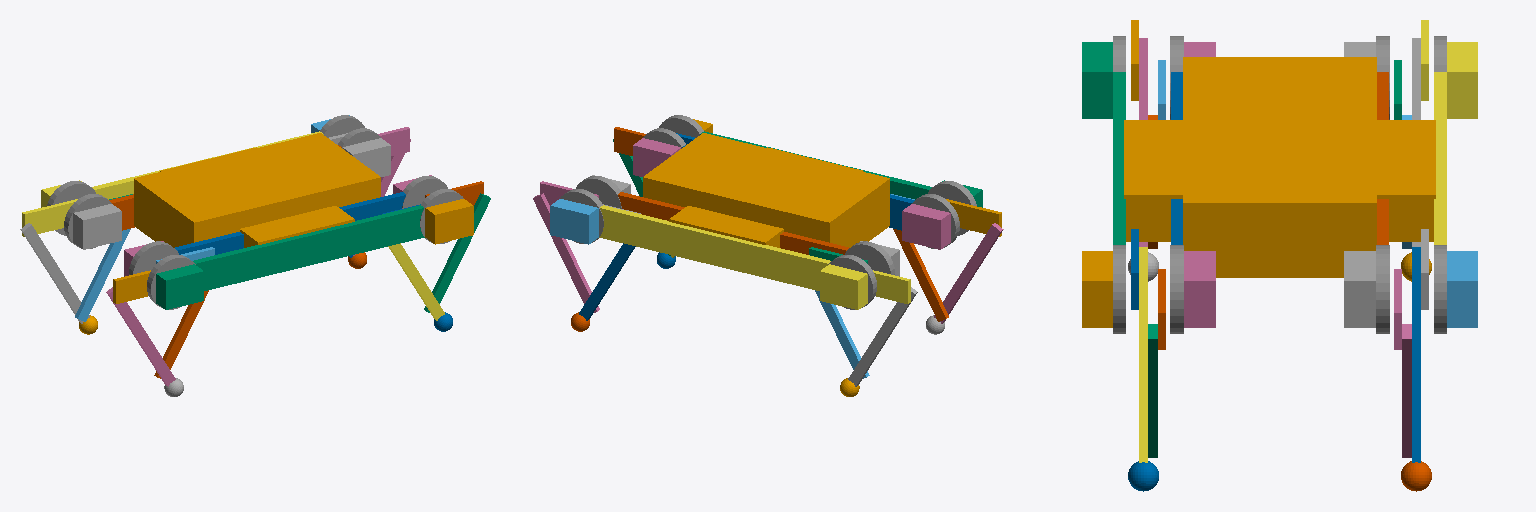
--- What the picture shows (computed from the rendered views, not written in the file) ---
The picture shows the robot from 3 angles, left to right: view 1: azimuth 30°, elevation 25°; view 2: azimuth 150°, elevation 25°; view 3: azimuth 270°, elevation 25°; orthographic projection.
Model minitaur with 40 links and 39 joints (16 continuous, 23 fixed), rooted at base_chassis_link_dummy, posed all joints at 0.
Visible links, largest first — view 1: base_chassis_link_dummy, frame1, chassis_left, motor_front_rightR_bracket_link, frame3, motor_back_rightR_bracket_link, lower_leg_back_leftL_link, lower_leg_back_rightR_link, lower_leg_front_rightL_link, lower_leg_back_leftR_link, lower_leg_front_rightR_link, upper_leg_back_leftL_link (+11 smaller); view 2: base_chassis_link_dummy, frame2, chassis_right, motor_front_leftL_bracket_link, frame4, motor_back_leftL_bracket_link, lower_leg_back_rightR_link, lower_leg_back_leftL_link, lower_leg_front_leftR_link, lower_leg_back_rightL_link, lower_leg_front_leftL_link, upper_leg_back_rightR_link (+11 smaller); view 3: base_chassis_link_dummy, chassis_right, chassis_left, motor_front_rightR_bracket_link, motor_front_leftL_bracket_link, motor_back_rightR_bracket_link, motor_back_leftL_bracket_link, frame1, frame2, lower_leg_front_leftL_link, lower_leg_front_rightR_link, lower_leg_front_leftR_link (+19 smaller).
Link boxes in pixels (x1,y1,x2,y2): base_chassis_link_dummy: [134, 133, 380, 247]; frame1: [193, 205, 424, 290]; chassis_left: [73, 138, 390, 249]; motor_front_rightR_bracket_link: [425, 199, 473, 244]; frame3: [175, 192, 405, 254]; motor_back_rightR_bracket_link: [156, 264, 203, 309]; lower_leg_back_leftL_link: [20, 223, 89, 323]; lower_leg_back_rightR_link: [106, 287, 175, 386]; lower_leg_front_rightL_link: [424, 193, 490, 312]; lower_leg_back_leftR_link: [75, 229, 130, 321]; lower_leg_front_rightR_link: [388, 243, 444, 320]; upper_leg_back_leftL_link: [22, 199, 77, 236]; base_chassis_link_dummy: [643, 133, 889, 247]; frame2: [599, 205, 830, 290]; chassis_right: [633, 138, 950, 249]; motor_front_leftL_bracket_link: [550, 199, 598, 244]; frame4: [618, 192, 848, 254]; motor_back_leftL_bracket_link: [820, 264, 867, 309]; lower_leg_back_rightR_link: [934, 223, 1003, 323]; lower_leg_back_leftL_link: [848, 287, 917, 386]; lower_leg_front_leftR_link: [533, 193, 599, 312]; lower_leg_back_rightL_link: [893, 229, 948, 321]; lower_leg_front_leftL_link: [579, 243, 635, 320]; upper_leg_back_rightR_link: [946, 199, 1001, 236]; base_chassis_link_dummy: [1124, 57, 1435, 277]; chassis_right: [1184, 42, 1215, 327]; chassis_left: [1344, 42, 1375, 327]; motor_front_rightR_bracket_link: [1082, 251, 1112, 327]; motor_front_leftL_bracket_link: [1447, 251, 1477, 327]; motor_back_rightR_bracket_link: [1082, 42, 1112, 118]; motor_back_leftL_bracket_link: [1447, 42, 1477, 118]; frame1: [1113, 72, 1125, 244]; frame2: [1434, 72, 1446, 244]; lower_leg_front_leftL_link: [1412, 247, 1420, 462]; lower_leg_front_rightR_link: [1139, 247, 1147, 462]; lower_leg_front_leftR_link: [1402, 324, 1411, 457].
Size in the robot's own frame: 0.6797 by 0.38 by 0.264 metres.
Meshes: 1 distinct files referenced, 8 mesh visuals loaded (1 Collada DAE).

robot.urdf — minitaur:
<?xml version="1.0" ?>
<!-- =================================================================================== -->
<!-- |    This document was autogenerated by xacro from minitaur_gazebo.urdf.xacro     | -->
<!-- |    EDITING THIS FILE BY HAND IS NOT RECOMMENDED                                 | -->
<!-- =================================================================================== -->
<!-- ======================================================================= -->
<!--LICENSE:                                                                 -->
<!--Copyright (c) 2017, Erwin Coumans                                        -->
<!--Google Inc.                                                              -->
<!--All rights reserved.                                                     -->
<!--                                                                         -->
<!--Redistribution and use in source and binary forms, with or without       -->
<!--modification, are permitted provided that the following conditions are   -->
<!--met:                                                                     -->
<!--                                                                         -->
<!--1. Redistributions or derived work must retain this copyright notice,    -->
<!--   this list of conditions and the following disclaimer.                 -->
<!--                                                                         -->
<!--2. Redistributions in binary form must reproduce the above copyright     -->
<!--   notice, this list of conditions and the following disclaimer in the   -->
<!--   documentation and/or other materials provided with the distribution.  -->
<!--                                                                         -->
<!--THIS SOFTWARE IS PROVIDED BY THE COPYRIGHT HOLDERS AND CONTRIBUTORS "AS  -->
<!--IS" AND ANY EXPRESS OR IMPLIED WARRANTIES, INCLUDING, BUT NOT LIMITED TO,-->
<!--THE IMPLIED WARRANTIES OF MERCHANTABILITY AND FITNESS FOR A PARTICULAR   -->
<!--PURPOSE ARE DISCLAIMED. IN NO EVENT SHALL THE COPYRIGHT HOLDER OR        -->
<!--CONTRIBUTORS BE LIABLE FOR ANY DIRECT, INDIRECT, INCIDENTAL, SPECIAL,    -->
<!--EXEMPLARY, OR CONSEQUENTIAL DAMAGES (INCLUDING, BUT NOT LIMITED TO,      -->
<!--PROCUREMENT OF SUBSTITUTE GOODS OR SERVICES; LOSS OF USE, DATA, OR       -->
<!--PROFITS; OR BUSINESS INTERRUPTION) HOWEVER CAUSED AND ON ANY THEORY OF   -->
<!--LIABILITY, WHETHER IN CONTRACT, STRICT LIABILITY, OR TORT (INCLUDING     -->
<!--NEGLIGENCE OR OTHERWISE) ARISING IN ANY WAY OUT OF THE USE OF THIS       -->
<!--SOFTWARE, EVEN IF ADVISED OF THE POSSIBILITY OF SUCH DAMAGE.             -->
<!--                                                                         -->
<!-- Converted to xacro by Tom Jacobs and Vasileios Vasilopoulos             -->
<!-- <[email redacted]>, <[email redacted]>              -->
<robot name="minitaur" xmlns:xacro="http://www.ros.org/wiki/xacro">
  <!-- Define parameters -->
  <!-- 7.18kg minitaur total weight - 0.016*4 - 0.10*8 - 0.25*8 - 0.05*8 - 0.05*8 = 3.516 -->
  <!-- * 4 frames -->
  <!-- * 8 motor modules -->
  <!-- * 8 motors -->
  <!-- * 8 upper legs -->
  <!-- * 8 lower legs -->
  <!-- LINK: Body dummy -->
  <link name="base_chassis_link_dummy">
    <visual>
      <geometry>
        <box size="0.33 0.1855 0.08"/>
      </geometry>
    </visual>
    <visual>
      <origin rpy="0 0 0" xyz="0 0.10 -0.014"/>
      <geometry>
        <box size="0.17 0.1 0.05"/>
      </geometry>
    </visual>
    <visual>
      <origin rpy="0 0 0" xyz="0 -0.10 -0.014"/>
      <geometry>
        <box size="0.17 0.1 0.05"/>
      </geometry>
    </visual>
    <collision>
      <geometry>
        <box size="0.33 0.1855 0.08"/>
      </geometry>
    </collision>
    <collision>
      <origin rpy="0 0 0" xyz="0 0.10 -0.014"/>
      <geometry>
        <box size="0.17 0.1 0.05"/>
      </geometry>
    </collision>
    <collision>
      <origin rpy="0 0 0" xyz="0 -0.10 -0.014"/>
      <geometry>
        <box size="0.17 0.1 0.05"/>
      </geometry>
    </collision>
  </link>
  <gazebo reference="base_chassis_link_dummy">
    <material>Gazebo/FlatBlack</material>
  </gazebo>
  <!-- LINK: Body -->
  <link name="base_chassis_link">
    <visual>
      <geometry>
        <box size="0.33 0.1855 0.08"/>
      </geometry>
    </visual>
    <visual>
      <origin rpy="0 0 0" xyz="0 0.10 -0.014"/>
      <geometry>
        <box size="0.17 0.1 0.05"/>
      </geometry>
    </visual>
    <visual>
      <origin rpy="0 0 0" xyz="0 -0.10 -0.014"/>
      <geometry>
        <box size="0.17 0.1 0.05"/>
      </geometry>
    </visual>
    <collision>
      <geometry>
        <box size="0.33 0.1855 0.08"/>
      </geometry>
    </collision>
    <collision>
      <origin rpy="0 0 0" xyz="0 0.10 -0.014"/>
      <geometry>
        <box size="0.17 0.1 0.05"/>
      </geometry>
    </collision>
    <collision>
      <origin rpy="0 0 0" xyz="0 -0.10 -0.014"/>
      <geometry>
        <box size="0.17 0.1 0.05"/>
      </geometry>
    </collision>
    <inertial>
      <mass value="3.516"/>
      <origin rpy="0 0 0" xyz="0 0 0"/>
      <!-- https://en.wikipedia.org/wiki/List_of_moments_of_inertia Solid Cuboid -->
      <inertia ixx="0.01195740325" ixy="0.0" ixz="0.0" iyy="0.0337829" iyz="0.0" izz="0.04198990325"/>
    </inertial>
  </link>
  <gazebo reference="base_chassis_link">
    <material>Gazebo/FlatBlack</material>
  </gazebo>
  <!-- JOINT: body to body dummy -->
  <joint name="dummy_joint" type="fixed">
    <axis xyz="0 0 1"/>
    <parent link="base_chassis_link_dummy"/>
    <child link="base_chassis_link"/>
    <origin rpy="0 0 0" xyz="0 0 0"/>
    <limit effort="100" velocity="100"/>
    <joint_properties damping=".0" friction=".0"/>
  </joint>
  <!-- LINK: frame1 -->
  <link name="frame1">
    <visual>
      <origin rpy="0 0 0" xyz="-0.22 0 0"/>
      <geometry>
        <box size="0.468 .012 .050"/>
      </geometry>
    </visual>
    <collision>
      <origin rpy="0 0 0" xyz="-0.22 0 0"/>
      <geometry>
        <box size="0.468 .012 .050"/>
      </geometry>
    </collision>
    <inertial>
      <origin rpy="0 0 0" xyz="0 -0.03 0"/>
      <mass value="0.16"/>
      <inertia ixx=".00011397" ixy=".0" ixz=".0" iyy=".00011397" iyz=".0" izz=".00021765"/>
    </inertial>
  </link>
  <gazebo reference="frame1">
    <material>Gazebo/Grey</material>
  </gazebo>
  <!-- JOINT: frame1 to body -->
  <joint name="frame1_joint" type="fixed">
    <axis xyz="0 0 1"/>
    <parent link="base_chassis_link"/>
    <child link="frame1"/>
    <origin rpy="0 0 0" xyz=".2375 -0.154 -.0185"/>
    <limit effort="100" velocity="100"/>
    <joint_properties damping=".0" friction=".0"/>
  </joint>
  <!-- LINK: frame2 -->
  <link name="frame2">
    <visual>
      <origin rpy="0 0 0" xyz="-0.22 0 0"/>
      <geometry>
        <box size="0.468 .012 .050"/>
      </geometry>
    </visual>
    <collision>
      <origin rpy="0 0 0" xyz="-0.22 0 0"/>
      <geometry>
        <box size="0.468 .012 .050"/>
      </geometry>
    </collision>
    <inertial>
      <origin rpy="0 0 0" xyz="0 0.02 0"/>
      <mass value="0.16"/>
      <inertia ixx=".00011397" ixy=".0" ixz=".0" iyy=".00011397" iyz=".0" izz=".00021765"/>
    </inertial>
  </link>
  <gazebo reference="frame2">
    <material>Gazebo/Grey</material>
  </gazebo>
  <!-- JOINT: frame2 to body -->
  <joint name="frame2_joint" type="fixed">
    <axis xyz="0 0 1"/>
    <parent link="base_chassis_link"/>
    <child link="frame2"/>
    <origin rpy="0 0 0" xyz=".2375 0.154 -.0185"/>
    <limit effort="100" velocity="100"/>
    <joint_properties damping=".0" friction=".0"/>
  </joint>
  <!-- LINK: frame3 -->
  <link name="frame3">
    <visual>
      <origin rpy="0 0 0" xyz="0.22 0.055 0"/>
      <geometry>
        <box size="0.468 .012 .050"/>
      </geometry>
    </visual>
    <collision>
      <origin rpy="0 0 0" xyz="0.22 0.055 0"/>
      <geometry>
        <box size="0.468 .012 .050"/>
      </geometry>
    </collision>
    <inertial>
      <origin rpy="0 0 0" xyz="0 -0.03 0"/>
      <mass value="0.16"/>
      <inertia ixx=".00011397" ixy=".0" ixz=".0" iyy=".00011397" iyz=".0" izz=".00021765"/>
    </inertial>
  </link>
  <gazebo reference="frame3">
    <material>Gazebo/Grey</material>
  </gazebo>
  <!-- JOINT: frame3 to body -->
  <joint name="frame3_joint" type="fixed">
    <axis xyz="0 0 1"/>
    <parent link="base_chassis_link"/>
    <child link="frame3"/>
    <origin rpy="0 0 0" xyz="-.2375 -0.154 -.0185"/>
    <limit effort="100" velocity="100"/>
    <joint_properties damping=".0" friction=".0"/>
  </joint>
  <!-- LINK: frame4 -->
  <link name="frame4">
    <visual>
      <origin rpy="0 0 0" xyz="0.22 -0.055 0"/>
      <geometry>
        <box size="0.468 .012 .050"/>
      </geometry>
    </visual>
    <collision>
      <origin rpy="0 0 0" xyz="0.22 -0.055 0"/>
      <geometry>
        <box size="0.468 .012 .050"/>
      </geometry>
    </collision>
    <inertial>
      <origin rpy="0 0 0" xyz="0 0.02 0"/>
      <mass value="0.16"/>
      <inertia ixx=".00011397" ixy=".0" ixz=".0" iyy=".00011397" iyz=".0" izz=".00021765"/>
    </inertial>
  </link>
  <gazebo reference="frame4">
    <material>Gazebo/Grey</material>
  </gazebo>
  <!-- JOINT: frame4 to body -->
  <joint name="frame4" type="fixed">
    <axis xyz="0 0 1"/>
    <parent link="base_chassis_link"/>
    <child link="frame4"/>
    <origin rpy="0 0 0" xyz="-.2375 0.154 -.0185"/>
    <limit effort="100" velocity="100"/>
    <joint_properties damping=".0" friction=".0"/>
  </joint>
  <!-- Inside motor module boxes -->
  <!-- LINK: chassis_right -->
  <link name="chassis_right">
    <visual>
      <origin rpy="0 0 0" xyz=".2375 .049 0"/>
      <geometry>
        <box size=".068 .032 .050"/>
      </geometry>
    </visual>
    <visual>
      <origin rpy="0 0 0" xyz="-.2375 .049 0"/>
      <geometry>
        <box size=".068 .032 .050"/>
      </geometry>
    </visual>
    <collision>
      <origin rpy="0 0 0" xyz=".2375 .049 0"/>
      <geometry>
        <box size=".068 .032 .050"/>
      </geometry>
    </collision>
    <collision>
      <origin rpy="0 0 0" xyz="-.2375 .049 0"/>
      <geometry>
        <box size=".068 .032 .050"/>
      </geometry>
    </collision>
    <inertial>
      <mass value="0.2"/>
      <inertia ixx=".004147" ixy=".0" ixz=".0" iyy=".040913" iyz=".0" izz=".041840"/>
    </inertial>
  </link>
  <gazebo reference="chassis_right">
    <material>Gazebo/Black</material>
  </gazebo>
  <!-- JOINT: chassis_right_center to body -->
  <joint name="chassis_right_center" type="fixed">
    <axis xyz="0 0 1"/>
    <parent link="base_chassis_link"/>
    <child link="chassis_right"/>
    <origin rpy="0 0 0" xyz="0 -.1265 -.0185"/>
    <limit effort="100" velocity="100"/>
    <joint_properties damping=".0" friction=".0"/>
  </joint>
  <!-- LINK: chassis_left -->
  <link name="chassis_left">
    <visual>
      <origin rpy="0 0 0" xyz=".2375 -.049 0"/>
      <geometry>
        <box size=".068 .032 .050"/>
      </geometry>
    </visual>
    <visual>
      <origin rpy="0 0 0" xyz="-.2375 -.049 0"/>
      <geometry>
        <box size=".068 .032 .050"/>
      </geometry>
    </visual>
    <collision>
      <origin rpy="0 0 0" xyz=".2375 -.049 0"/>
      <geometry>
        <box size=".068 .032 .050"/>
      </geometry>
    </collision>
    <collision>
      <origin rpy="0 0 0" xyz="-.2375 -.049 0"/>
      <geometry>
        <box size=".068 .032 .050"/>
      </geometry>
    </collision>
    <inertial>
      <mass value="0.2"/>
      <inertia ixx=".004147" ixy=".0" ixz=".0" iyy=".040913" iyz=".0" izz=".041840"/>
    </inertial>
  </link>
  <gazebo reference="chassis_left">
    <material>Gazebo/Black</material>
  </gazebo>
  <!-- JOINT: chassis_left_center to body -->
  <joint name="chassis_left_center" type="fixed">
    <axis xyz="0 0 1"/>
    <parent link="base_chassis_link"/>
    <child link="chassis_left"/>
    <origin rpy="0 0 0" xyz="0 .1265 -.0185"/>
    <limit effort="100" velocity="100"/>
    <joint_properties damping=".0" friction=".0"/>
  </joint>
  <!-- Outside motor module boxes -->
  <!-- LINK: motor_front_rightR_bracket_link -->
  <link name="motor_front_rightR_bracket_link">
    <visual>
      <origin rpy="0 0 0" xyz="0 -0.02 0"/>
      <geometry>
        <box size="0.068 .032 .050"/>
      </geometry>
    </visual>
    <collision>
      <origin rpy="0 0 0" xyz="0 -0.02 0"/>
      <geometry>
        <box size=".068 .032 .050"/>
      </geometry>
    </collision>
    <inertial>
      <origin rpy="0 0 0" xyz="0 -0.03 0"/>
      <mass value="0.1"/>
      <inertia ixx=".00011397" ixy=".0" ixz=".0" iyy=".00011397" iyz=".0" izz=".00021765"/>
    </inertial>
  </link>
  <gazebo reference="motor_front_rightR_bracket_link">
    <material>Gazebo/Black</material>
  </gazebo>
  <!-- JOINT: motor_front_rightR_bracket_link to body -->
  <joint name="motor_front_rightR_bracket_joint" type="fixed">
    <axis xyz="0 0 1"/>
    <parent link="base_chassis_link"/>
    <child link="motor_front_rightR_bracket_link"/>
    <origin rpy="0 0 0" xyz=".2375 -0.154 -.0185"/>
    <limit effort="100" velocity="100"/>
    <joint_properties damping=".0" friction=".0"/>
  </joint>
  <!-- LINK: motor_front_leftL_bracket_link -->
  <link name="motor_front_leftL_bracket_link">
    <visual>
      <origin rpy="0 0 0" xyz="0 0.02 0"/>
      <geometry>
        <box size="0.068 .032 .050"/>
      </geometry>
    </visual>
    <collision>
      <origin rpy="0 0 0" xyz="0 0.02 0"/>
      <geometry>
        <box size=".068 .032 .050"/>
      </geometry>
    </collision>
    <inertial>
      <origin rpy="0 0 0" xyz="0 0.02 0"/>
      <mass value="0.1"/>
      <inertia ixx=".00011397" ixy=".0" ixz=".0" iyy=".00011397" iyz=".0" izz=".00021765"/>
    </inertial>
  </link>
  <gazebo reference="motor_front_leftL_bracket_link">
    <material>Gazebo/Black</material>
  </gazebo>
  <!-- JOINT: motor_front_leftL_bracket_joint to body -->
  <joint name="motor_front_leftL_bracket_joint" type="fixed">
    <axis xyz="0 0 1"/>
    <parent link="base_chassis_link"/>
    <child link="motor_front_leftL_bracket_link"/>
    <origin rpy="0 0 0" xyz=".2375 0.154 -.0185"/>
    <limit effort="100" velocity="100"/>
    <joint_properties damping=".0" friction=".0"/>
  </joint>
  <!-- LINK: motor_back_rightR_bracket_link -->
  <link name="motor_back_rightR_bracket_link">
    <visual>
      <origin rpy="0 0 0" xyz="0 -0.02 0"/>
      <geometry>
        <box size="0.068 .032 .050"/>
      </geometry>
    </visual>
    <collision>
      <origin rpy="0 0 0" xyz="0 -0.02 0"/>
      <geometry>
        <box size=".068 .032 .050"/>
      </geometry>
    </collision>
    <inertial>
      <origin rpy="0 0 0" xyz="0 -0.03 0"/>
      <mass value="0.1"/>
      <inertia ixx=".00011397" ixy=".0" ixz=".0" iyy=".00011397" iyz=".0" izz=".00021765"/>
    </inertial>
  </link>
  <gazebo reference="motor_back_rightR_bracket_link">
    <material>Gazebo/Black</material>
  </gazebo>
  <!-- JOINT: motor_back_rightR_bracket_joint to body -->
  <joint name="motor_back_rightR_bracket_joint" type="fixed">
    <axis xyz="0 0 1"/>
    <parent link="base_chassis_link"/>
    <child link="motor_back_rightR_bracket_link"/>
    <origin rpy="0 0 0" xyz="-.2375 -0.154 -.0185"/>
    <limit effort="100" velocity="100"/>
    <joint_properties damping=".0" friction=".0"/>
  </joint>
  <!-- LINK: motor_back_leftL_bracket_link -->
  <link name="motor_back_leftL_bracket_link">
    <visual>
      <origin rpy="0 0 0" xyz="0 0.02 0"/>
      <geometry>
        <box size="0.068 .032 .050"/>
      </geometry>
    </visual>
    <collision>
      <origin rpy="0 0 0" xyz="0 0.02 0"/>
      <geometry>
        <box size=".068 .032 .050"/>
      </geometry>
    </collision>
    <inertial>
      <origin rpy="0 0 0" xyz="0 0.02 0"/>
      <mass value="0.1"/>
      <inertia ixx=".00011397" ixy=".0" ixz=".0" iyy=".00011397" iyz=".0" izz=".00021765"/>
    </inertial>
  </link>
  <gazebo reference="motor_back_leftL_bracket_link">
    <material>Gazebo/Black</material>
  </gazebo>
  <!-- JOINT: motor_back_leftL_bracket_joint to body -->
  <joint name="motor_back_leftL_bracket_joint" type="fixed">
    <axis xyz="0 0 1"/>
    <parent link="base_chassis_link"/>
    <child link="motor_back_leftL_bracket_link"/>
    <origin rpy="0 0 0" xyz="-.2375 0.154 -.0185"/>
    <limit effort="100" velocity="100"/>
    <joint_properties damping=".0" friction=".0"/>
  </joint>
  <!-- Define our motor macro -->
  <!-- Motors -->
  <!-- LINK: motor_${location}_${side}${LR}_link -->
  <link name="motor_front_rightR_link">
    <visual>
      <geometry>
        <mesh filename="package://GymIgnition/models/Minitaur/meshes/tmotor3.dae" scale="100 100 100"/>
      </geometry>
    </visual>
    <collision>
      <geometry>
        <cylinder length="0.021" radius="0.0425"/>
      </geometry>
    </collision>
    <inertial>
      <mass value="0.25"/>
      <inertia ixx=".00011397" ixy=".0" ixz=".0" iyy=".00011397" iyz=".0" izz=".00021765"/>
    </inertial>
  </link>
  <!-- JOINT: motor_${location}_${side}${LR}_link to ${chassis} -->
  <joint name="5" type="continuous">
    <axis xyz="0 0 1"/>
    <parent link="motor_front_rightR_bracket_link"/>
    <child link="motor_front_rightR_link"/>
    <origin rpy="1.57075 -1.57075 0" xyz="0 0 0"/>
    <limit effort="100" velocity="100"/>
    <joint_properties damping="0.0" friction="0.0"/>
  </joint>
  <!-- Transmission elements required for Gazebo -->
  <transmission name="transmission_5">
    <type>transmission_interface/SimpleTransmission</type>
    <joint name="5">
      <hardwareInterface>hardware_interface/EffortJointInterface</hardwareInterface>
    </joint>
    <actuator name="motor_5">
      <hardwareInterface>EffortJointInterface</hardwareInterface>
      <mechanicalReduction>1</mechanicalReduction>
    </actuator>
  </transmission>
  <!-- LINK: motor_${location}_${side}${LR}_link -->
  <link name="motor_front_rightL_link">
    <visual>
      <geometry>
        <mesh filename="package://GymIgnition/models/Minitaur/meshes/tmotor3.dae" scale="100 100 100"/>
      </geometry>
    </visual>
    <collision>
      <geometry>
        <cylinder length="0.021" radius="0.0425"/>
      </geometry>
    </collision>
    <inertial>
      <mass value="0.25"/>
      <inertia ixx=".00011397" ixy=".0" ixz=".0" iyy=".00011397" iyz=".0" izz=".00021765"/>
    </inertial>
  </link>
  <!-- JOINT: motor_${location}_${side}${LR}_link to ${chassis} -->
  <joint name="4" type="continuous">
    <axis xyz="0 0 -1"/>
    <parent link="chassis_right"/>
    <child link="motor_front_rightL_link"/>
    <origin rpy="1.57075 1.57075 0" xyz=".2375 .0275 0"/>
    <limit effort="100" velocity="100"/>
    <joint_properties damping="0.0" friction="0.0"/>
  </joint>
  <!-- Transmission elements required for Gazebo -->
  <transmission name="transmission_4">
    <type>transmission_interface/SimpleTransmission</type>
    <joint name="4">
      <hardwareInterface>hardware_interface/EffortJointInterface</hardwareInterface>
    </joint>
    <actuator name="motor_4">
      <hardwareInterface>EffortJointInterface</hardwareInterface>
      <mechanicalReduction>1</mechanicalReduction>
    </actuator>
  </transmission>
  <!-- LINK: motor_${location}_${side}${LR}_link -->
  <link name="motor_front_leftL_link">
    <visual>
      <geometry>
        <mesh filename="package://GymIgnition/models/Minitaur/meshes/tmotor3.dae" scale="100 100 100"/>
      </geometry>
    </visual>
    <collision>
      <geometry>
        <cylinder length="0.021" radius="0.0425"/>
      </geometry>
    </collision>
    <inertial>
      <mass value="0.25"/>
      <inertia ixx=".00011397" ixy=".0" ixz=".0" iyy=".00011397" iyz=".0" izz=".00021765"/>
    </inertial>
  </link>
  <!-- JOINT: motor_${location}_${side}${LR}_link to ${chassis} -->
  <joint name="0" type="continuous">
    <axis xyz="0 0 -1"/>
    <parent link="motor_front_leftL_bracket_link"/>
    <child link="motor_front_leftL_link"/>
    <origin rpy="1.57075 -1.57075 0" xyz="0 0 0"/>
    <limit effort="100" velocity="100"/>
    <joint_properties damping="0.0" friction="0.0"/>
  </joint>
  <!-- Transmission elements required for Gazebo -->
  <transmission name="transmission_0">
    <type>transmission_interface/SimpleTransmission</type>
    <joint name="0">
      <hardwareInterface>hardware_interface/EffortJointInterface</hardwareInterface>
    </joint>
    <actuator name="motor_0">
      <hardwareInterface>EffortJointInterface</hardwareInterface>
      <mechanicalReduction>1</mechanicalReduction>
    </actuator>
  </transmission>
  <!-- LINK: motor_${location}_${side}${LR}_link -->
  <link name="motor_front_leftR_link">
    <visual>
      <geometry>
        <mesh filename="package://GymIgnition/models/Minitaur/meshes/tmotor3.dae" scale="100 100 100"/>
      </geometry>
    </visual>
    <collision>
      <geometry>
        <cylinder length="0.021" radius="0.0425"/>
      </geometry>
    </collision>
    <inertial>
      <mass value="0.25"/>
      <inertia ixx=".00011397" ixy=".0" ixz=".0" iyy=".00011397" iyz=".0" izz=".00021765"/>
    </inertial>
  </link>
  <!-- JOINT: motor_${location}_${side}${LR}_link to ${chassis} -->
  <joint name="1" type="continuous">
    <axis xyz="0 0 1"/>
    <parent link="chassis_left"/>
    <child link="motor_front_leftR_link"/>
    <origin rpy="1.57075 1.57075 0" xyz=".2375 -.0275 0"/>
    <limit effort="100" velocity="100"/>
    <joint_properties damping="0.0" friction="0.0"/>
  </joint>
  <!-- Transmission elements required for Gazebo -->
  <transmission name="transmission_1">
    <type>transmission_interface/SimpleTransmission</type>
    <joint name="1">
      <hardwareInterface>hardware_interface/EffortJointInterface</hardwareInterface>
    </joint>
    <actuator name="motor_1">
      <hardwareInterface>EffortJointInterface</hardwareInterface>
      <mechanicalReduction>1</mechanicalReduction>
    </actuator>
  </transmission>
  <!-- LINK: motor_${location}_${side}${LR}_link -->
  <link name="motor_back_rightR_link">
    <visual>
      <geometry>
        <mesh filename="package://GymIgnition/models/Minitaur/meshes/tmotor3.dae" scale="100 100 100"/>
      </geometry>
    </visual>
    <collision>
      <geometry>
        <cylinder length="0.021" radius="0.0425"/>
      </geometry>
    </collision>
    <inertial>
      <mass value="0.25"/>
      <inertia ixx=".00011397" ixy=".0" ixz=".0" iyy=".00011397" iyz=".0" izz=".00021765"/>
    </inertial>
  </link>
  <!-- JOINT: motor_${location}_${side}${LR}_link to ${chassis} -->
  <joint name="7" type="continuous">
    <axis xyz="0 0 1"/>
    <parent link="motor_back_rightR_bracket_link"/>
    <child link="motor_back_rightR_link"/>
    <origin rpy="1.57075 -1.57075 0" xyz="0 0 0"/>
    <limit effort="100" velocity="100"/>
    <joint_properties damping="0.0" friction="0.0"/>
  </joint>
  <!-- Transmission elements required for Gazebo -->
  <transmission name="transmission_7">
    <type>transmission_interface/SimpleTransmission</type>
    <joint name="7">
      <hardwareInterface>hardware_interface/EffortJointInterface</hardwareInterface>
    </joint>
    <actuator name="motor_7">
      <hardwareInterface>EffortJointInterface</hardwareInterface>
      <mechanicalReduction>1</mechanicalReduction>
    </actuator>
  </transmission>
  <!-- LINK: motor_${location}_${side}${LR}_link -->
  <link name="motor_back_rightL_link">
    <visual>
      <geometry>
        <mesh filename="package://GymIgnition/models/Minitaur/meshes/tmotor3.dae" scale="100 100 100"/>
      </geometry>
    </visual>
    <collision>
      <geometry>
        <cylinder length="0.021" radius="0.0425"/>
      </geometry>
    </collision>
    <inertial>
      <mass value="0.25"/>
      <inertia ixx=".00011397" ixy=".0" ixz=".0" iyy=".00011397" iyz=".0" izz=".00021765"/>
    </inertial>
  </link>
  <!-- JOINT: motor_${location}_${side}${LR}_link to ${chassis} -->
  <joint name="6" type="continuous">
    <axis xyz="0 0 -1"/>
    <parent link="chassis_right"/>
    <child link="motor_back_rightL_link"/>
    <origin rpy="1.57075 1.57075 0" xyz="-.2375 .0275 0"/>
    <limit effort="100" velocity="100"/>
    <joint_properties damping="0.0" friction="0.0"/>
  </joint>
  <!-- Transmission elements required for Gazebo -->
  <transmission name="transmission_6">
    <type>transmission_interface/SimpleTransmission</type>
    <joint name="6">
      <hardwareInterface>hardware_interface/EffortJointInterface</hardwareInterface>
    </joint>
    <actuator name="motor_6">
      <hardwareInterface>EffortJointInterface</hardwareInterface>
      <mechanicalReduction>1</mechanicalReduction>
    </actuator>
  </transmission>
  <!-- LINK: motor_${location}_${side}${LR}_link -->
  <link name="motor_back_leftL_link">
    <visual>
      <geometry>
        <mesh filename="package://GymIgnition/models/Minitaur/meshes/tmotor3.dae" scale="100 100 100"/>
      </geometry>
    </visual>
    <collision>
      <geometry>
        <cylinder length="0.021" radius="0.0425"/>
      </geometry>
    </collision>
    <inertial>
      <mass value="0.25"/>
      <inertia ixx=".00011397" ixy=".0" ixz=".0" iyy=".00011397" iyz=".0" izz=".00021765"/>
    </inertial>
  </link>
  <!-- JOINT: motor_${location}_${side}${LR}_link to ${chassis} -->
  <joint name="2" type="continuous">
    <axis xyz="0 0 -1"/>
    <parent link="motor_back_leftL_bracket_link"/>
    <child link="motor_back_leftL_link"/>
    <origin rpy="1.57075 -1.57075 0" xyz="0 0 0"/>
    <limit effort="100" velocity="100"/>
    <joint_properties damping="0.0" friction="0.0"/>
  </joint>
  <!-- Transmission elements required for Gazebo -->
  <transmission name="transmission_2">
    <type>transmission_interface/SimpleTransmission</type>
    <joint name="2">
      <hardwareInterface>hardware_interface/EffortJointInterface</hardwareInterface>
    </joint>
    <actuator name="motor_2">
      <hardwareInterface>EffortJointInterface</hardwareInterface>
      <mechanicalReduction>1</mechanicalReduction>
    </actuator>
  </transmission>
  <!-- LINK: motor_${location}_${side}${LR}_link -->
  <link name="motor_back_leftR_link">
    <visual>
      <geometry>
        <mesh filename="package://GymIgnition/models/Minitaur/meshes/tmotor3.dae" scale="100 100 100"/>
      </geometry>
    </visual>
    <collision>
      <geometry>
        <cylinder length="0.021" radius="0.0425"/>
      </geometry>
    </collision>
    <inertial>
      <mass value="0.25"/>
      <inertia ixx=".00011397" ixy=".0" ixz=".0" iyy=".00011397" iyz=".0" izz=".00021765"/>
    </inertial>
  </link>
  <!-- JOINT: motor_${location}_${side}${LR}_link to ${chassis} -->
  <joint name="3" type="continuous">
    <axis xyz="0 0 1"/>
    <parent link="chassis_left"/>
    <child link="motor_back_leftR_link"/>
    <origin rpy="1.57075 1.57075 0" xyz="-.2375 -.0275 0"/>
    <limit effort="100" velocity="100"/>
    <joint_properties damping="0.0" friction="0.0"/>
  </joint>
  <!-- Transmission elements required for Gazebo -->
  <transmission name="transmission_3">
    <type>transmission_interface/SimpleTransmission</type>
    <joint name="3">
      <hardwareInterface>hardware_interface/EffortJointInterface</hardwareInterface>
    </joint>
    <actuator name="motor_3">
      <hardwareInterface>EffortJointInterface</hardwareInterface>
      <mechanicalReduction>1</mechanicalReduction>
    </actuator>
  </transmission>
  <!-- Define our upper leg macro -->
  <!-- Define our lower leg macro -->
  <!-- Legs -->
  <!-- LINK: upper_leg_${location}_link -->
  <link name="upper_leg_front_rightR_link">
    <visual>
      <geometry>
        <box size="0.039 0.008 0.1"/>
      </geometry>
    </visual>
    <collision>
      <geometry>
        <box size="0.039 0.008 0.1"/>
      </geometry>
    </collision>
    <inertial>
      <mass value="0.05"/>
      <inertia ixx=".000038770" ixy=".0" ixz=".0" iyy=".000042198" iyz=".0" izz=".0000036030"/>
    </inertial>
  </link>
  <gazebo reference="upper_leg_front_rightR_link">
    <material>Gazebo/Grey</material>
  </gazebo>
  <!-- JOINT: ${hip}_${location}_link to motor_${location}_link -->
  <joint name="hip_front_rightR_link" type="fixed">
    <axis xyz="0 0 1"/>
    <parent link="motor_front_rightR_link"/>
    <child link="upper_leg_front_rightR_link"/>
    <origin rpy="-1.57075 0 0" xyz="0 .045 -.0145"/>
    <limit effort="100" velocity="100"/>
    <joint_properties damping="0.0" friction="0.0"/>
  </joint>
  <!-- LINK: upper_leg_${location}_link -->
  <link name="upper_leg_front_rightL_link">
    <visual>
      <geometry>
        <box size="0.039 0.008 0.1"/>
      </geometry>
    </visual>
    <collision>
      <geometry>
        <box size="0.039 0.008 0.1"/>
      </geometry>
    </collision>
    <inertial>
      <mass value="0.05"/>
      <inertia ixx=".000038770" ixy=".0" ixz=".0" iyy=".000042198" iyz=".0" izz=".0000036030"/>
    </inertial>
  </link>
  <gazebo reference="upper_leg_front_rightL_link">
    <material>Gazebo/Grey</material>
  </gazebo>
  <!-- JOINT: ${hip}_${location}_link to motor_${location}_link -->
  <joint name="motor_front_rightL_link" type="fixed">
    <axis xyz="0 0 1"/>
    <parent link="motor_front_rightL_link"/>
    <child link="upper_leg_front_rightL_link"/>
    <origin rpy="-1.57075 0 0" xyz="0 .045 .0145"/>
    <limit effort="100" velocity="100"/>
    <joint_properties damping="0.0" friction="0.0"/>
  </joint>
  <!-- LINK: upper_leg_${location}_link -->
  <link name="upper_leg_front_leftR_link">
    <visual>
      <geometry>
        <box size="0.039 0.008 0.1"/>
      </geometry>
    </visual>
    <collision>
      <geometry>
        <box size="0.039 0.008 0.1"/>
      </geometry>
    </collision>
    <inertial>
      <mass value="0.05"/>
      <inertia ixx=".000038770" ixy=".0" ixz=".0" iyy=".000042198" iyz=".0" izz=".0000036030"/>
    </inertial>
  </link>
  <gazebo reference="upper_leg_front_leftR_link">
    <material>Gazebo/Grey</material>
  </gazebo>
  <!-- JOINT: ${hip}_${location}_link to motor_${location}_link -->
  <joint name="hip_front_leftR_link" type="fixed">
    <axis xyz="0 0 1"/>
    <parent link="motor_front_leftR_link"/>
    <child link="upper_leg_front_leftR_link"/>
    <origin rpy="-1.57075 0 0" xyz="0 .045 -.0145"/>
    <limit effort="100" velocity="100"/>
    <joint_properties damping="0.0" friction="0.0"/>
  </joint>
  <!-- LINK: upper_leg_${location}_link -->
  <link name="upper_leg_front_leftL_link">
    <visual>
      <geometry>
        <box size="0.039 0.008 0.1"/>
      </geometry>
    </visual>
    <collision>
      <geometry>
        <box size="0.039 0.008 0.1"/>
      </geometry>
    </collision>
    <inertial>
      <mass value="0.05"/>
      <inertia ixx=".000038770" ixy=".0" ixz=".0" iyy=".000042198" iyz=".0" izz=".0000036030"/>
    </inertial>
  </link>
  <gazebo reference="upper_leg_front_leftL_link">
    <material>Gazebo/Grey</material>
  </gazebo>
  <!-- JOINT: ${hip}_${location}_link to motor_${location}_link -->
  <joint name="motor_front_leftL_link" type="fixed">
    <axis xyz="0 0 1"/>
    <parent link="motor_front_leftL_link"/>
    <child link="upper_leg_front_leftL_link"/>
    <origin rpy="-1.57075 0 0" xyz="0 .045 .0145"/>
    <limit effort="100" velocity="100"/>
    <joint_properties damping="0.0" friction="0.0"/>
  </joint>
  <!-- LINK: upper_leg_${location}_link -->
  <link name="upper_leg_back_rightR_link">
    <visual>
      <geometry>
        <box size="0.039 0.008 0.1"/>
      </geometry>
    </visual>
    <collision>
      <geometry>
        <box size="0.039 0.008 0.1"/>
      </geometry>
    </collision>
    <inertial>
      <mass value="0.05"/>
      <inertia ixx=".000038770" ixy=".0" ixz=".0" iyy=".000042198" iyz=".0" izz=".0000036030"/>
    </inertial>
  </link>
  <gazebo reference="upper_leg_back_rightR_link">
    <material>Gazebo/Grey</material>
  </gazebo>
  <!-- JOINT: ${hip}_${location}_link to motor_${location}_link -->
  <joint name="hip_back_rightR_link" type="fixed">
    <axis xyz="0 0 1"/>
    <parent link="motor_back_rightR_link"/>
    <child link="upper_leg_back_rightR_link"/>
    <origin rpy="-1.57075 0 0" xyz="0 .045 -.0145"/>
    <limit effort="100" velocity="100"/>
    <joint_properties damping="0.0" friction="0.0"/>
  </joint>
  <!-- LINK: upper_leg_${location}_link -->
  <link name="upper_leg_back_rightL_link">
    <visual>
      <geometry>
        <box size="0.039 0.008 0.1"/>
      </geometry>
    </visual>
    <collision>
      <geometry>
        <box size="0.039 0.008 0.1"/>
      </geometry>
    </collision>
    <inertial>
      <mass value="0.05"/>
      <inertia ixx=".000038770" ixy=".0" ixz=".0" iyy=".000042198" iyz=".0" izz=".0000036030"/>
    </inertial>
  </link>
  <gazebo reference="upper_leg_back_rightL_link">
    <material>Gazebo/Grey</material>
  </gazebo>
  <!-- JOINT: ${hip}_${location}_link to motor_${location}_link -->
  <joint name="motor_back_rightL_link" type="fixed">
    <axis xyz="0 0 1"/>
    <parent link="motor_back_rightL_link"/>
    <child link="upper_leg_back_rightL_link"/>
    <origin rpy="-1.57075 0 0" xyz="0 .045 .0145"/>
    <limit effort="100" velocity="100"/>
    <joint_properties damping="0.0" friction="0.0"/>
  </joint>
  <!-- LINK: upper_leg_${location}_link -->
  <link name="upper_leg_back_leftR_link">
    <visual>
      <geometry>
        <box size="0.039 0.008 0.1"/>
      </geometry>
    </visual>
    <collision>
      <geometry>
        <box size="0.039 0.008 0.1"/>
      </geometry>
    </collision>
    <inertial>
      <mass value="0.05"/>
      <inertia ixx=".000038770" ixy=".0" ixz=".0" iyy=".000042198" iyz=".0" izz=".0000036030"/>
    </inertial>
  </link>
  <gazebo reference="upper_leg_back_leftR_link">
    <material>Gazebo/Grey</material>
  </gazebo>
  <!-- JOINT: ${hip}_${location}_link to motor_${location}_link -->
  <joint name="hip_back_leftR_link" type="fixed">
    <axis xyz="0 0 1"/>
    <parent link="motor_back_leftR_link"/>
    <child link="upper_leg_back_leftR_link"/>
    <origin rpy="-1.57075 0 0" xyz="0 .045 -.0145"/>
    <limit effort="100" velocity="100"/>
    <joint_properties damping="0.0" friction="0.0"/>
  </joint>
  <!-- LINK: upper_leg_${location}_link -->
  <link name="upper_leg_back_leftL_link">
    <visual>
      <geometry>
        <box size="0.039 0.008 0.1"/>
      </geometry>
    </visual>
    <collision>
      <geometry>
        <box size="0.039 0.008 0.1"/>
      </geometry>
    </collision>
    <inertial>
      <mass value="0.05"/>
      <inertia ixx=".000038770" ixy=".0" ixz=".0" iyy=".000042198" iyz=".0" izz=".0000036030"/>
    </inertial>
  </link>
  <gazebo reference="upper_leg_back_leftL_link">
    <material>Gazebo/Grey</material>
  </gazebo>
  <!-- JOINT: ${hip}_${location}_link to motor_${location}_link -->
  <joint name="motor_back_leftL_link" type="fixed">
    <axis xyz="0 0 1"/>
    <parent link="motor_back_leftL_link"/>
    <child link="upper_leg_back_leftL_link"/>
    <origin rpy="-1.57075 0 0" xyz="0 .045 .0145"/>
    <limit effort="100" velocity="100"/>
    <joint_properties damping="0.0" friction="0.0"/>
  </joint>
  <!-- Lower legs and flexy knee joints -->
  <!-- LINK: lower_leg_${location}_link -->
  <link name="lower_leg_front_leftL_link">
    <visual>
      <origin rpy="0 0 0" xyz="0 0 0.11"/>
      <geometry>
        <box size="0.017 0.009 0.22"/>
      </geometry>
    </visual>
    <collision>
      <origin rpy="0 0 0" xyz="0 0 0.11"/>
      <geometry>
        <box size="0.017 0.009 0.22"/>
      </geometry>
    </collision>
    <inertial>
      <origin rpy="0 0 0" xyz="0 0 0.11"/>
      <mass value="0.05"/>
      <inertia ixx=".00032459" ixy=".0" ixz=".0" iyy=".00032637" iyz=".0" izz=".000002178"/>
    </inertial>
  </link>
  <gazebo reference="lower_leg_front_leftL_link">
    <material>Gazebo/Grey</material>
    <collision>
      <surface>
        <bounce>
          <restitution_coefficient>0</restitution_coefficient>
          <threshold>1e+06</threshold>
        </bounce>
        <friction>
          <torsional>
            <coefficient>0.05</coefficient>
          </torsional>
          <bullet>
            <rolling_friction>0.05</rolling_friction>
          </bullet>
        </friction>
        <contact>
          <ode>
            <kp>3000.0</kp>
            <kd>100.0</kd>
          </ode>
          <bullet>
            <kp>3000.0</kp>
            <kd>100.0</kd>
          </bullet>
        </contact>
      </surface>
    </collision>
  </gazebo>
  <!-- JOINT: lower_leg_${location}_link to upper_leg_${location}_link -->
  <joint name="8" type="continuous">
    <axis xyz="0 -1 0"/>
    <parent link="upper_leg_front_leftL_link"/>
    <child link="lower_leg_front_leftL_link"/>
    <origin rpy="0 4.189 0" xyz="0 -0.0085 0.05"/>
    <limit effort="100" velocity="100"/>
    <joint_properties damping="0.0" friction="0.0"/>
  </joint>
  <!-- Toe -->
  <!-- LINK: toe${toeSuffix} -->
  <link name="toe0">
    <visual>
      <origin rpy="0 0 0" xyz="0 0 0"/>
      <geometry>
        <sphere radius="0.015"/>
      </geometry>
    </visual>
    <collision>
      <origin rpy="0 0 0" xyz="0 0 0"/>
      <geometry>
        <sphere radius="0.015"/>
      </geometry>
    </collision>
    <inertial>
      <mass value="0.01"/>
      <inertia ixx="0.000025" ixy="0" ixz="0" iyy="0.000025" iyz="0" izz="0.000025"/>
    </inertial>
  </link>
  <gazebo reference="toe0">
    <material>Gazebo/Black</material>
    <collision>
      <surface>
        <bounce>
          <restitution_coefficient>0</restitution_coefficient>
          <threshold>1e+06</threshold>
        </bounce>
        <friction>
          <torsional>
            <coefficient>1.0</coefficient>
          </torsional>
          <ode>
            <mu>1.0</mu>
            <mu2>1.0</mu2>
          </ode>
          <bullet>
            <rolling_friction>1.0</rolling_friction>
            <friction2>1.0</friction2>
          </bullet>
        </friction>
        <contact>
          <ode>
            <kp>300000.0</kp>
            <kd>1000.0</kd>
          </ode>
          <bullet>
            <kp>300000.0</kp>
            <kd>1000.0</kd>
          </bullet>
        </contact>
      </surface>
    </collision>
  </gazebo>
  <!-- JOINT: toe${toeSuffix} to lower_leg_${location}_link -->
  <joint name="toe0" type="fixed">
    <parent link="lower_leg_front_leftL_link"/>
    <child link="toe0"/>
    <origin xyz="0 0 0.22"/>
    <dynamics damping="0.0" friction="0.0"/>
  </joint>
  <!-- LINK: lower_leg_${location}_link -->
  <link name="lower_leg_front_leftR_link">
    <visual>
      <origin rpy="0 0 0" xyz="0 0 0.1"/>
      <geometry>
        <box size="0.017 0.009 0.2"/>
      </geometry>
    </visual>
    <collision>
      <origin rpy="0 0 0" xyz="0 0 0.1"/>
      <geometry>
        <box size="0.017 0.009 0.2"/>
      </geometry>
    </collision>
    <inertial>
      <origin rpy="0 0 0" xyz="0 0 0.1"/>
      <mass value="0.05"/>
      <inertia ixx=".00032459" ixy=".0" ixz=".0" iyy=".00032637" iyz=".0" izz=".000002178"/>
    </inertial>
  </link>
  <gazebo reference="lower_leg_front_leftR_link">
    <material>Gazebo/Grey</material>
    <collision>
      <surface>
        <bounce>
          <restitution_coefficient>0</restitution_coefficient>
          <threshold>1e+06</threshold>
        </bounce>
        <friction>
          <torsional>
            <coefficient>0.05</coefficient>
          </torsional>
          <bullet>
            <rolling_friction>0.05</rolling_friction>
          </bullet>
        </friction>
        <contact>
          <ode>
            <kp>3000.0</kp>
            <kd>100.0</kd>
          </ode>
          <bullet>
            <kp>3000.0</kp>
            <kd>100.0</kd>
          </bullet>
        </contact>
      </surface>
    </collision>
  </gazebo>
  <!-- JOINT: lower_leg_${location}_link to upper_leg_${location}_link -->
  <joint name="9" type="continuous">
    <axis xyz="0 1 0"/>
    <parent link="upper_leg_front_leftR_link"/>
    <child link="lower_leg_front_leftR_link"/>
    <origin rpy="0 -4.189 0" xyz="0 0.0085 0.05"/>
    <limit effort="100" velocity="100"/>
    <joint_properties damping="0.0" friction="0.0"/>
  </joint>
  <!-- LINK: lower_leg_${location}_link -->
  <link name="lower_leg_back_leftL_link">
    <visual>
      <origin rpy="0 0 0" xyz="0 0 0.11"/>
      <geometry>
        <box size="0.017 0.009 0.22"/>
      </geometry>
    </visual>
    <collision>
      <origin rpy="0 0 0" xyz="0 0 0.11"/>
      <geometry>
        <box size="0.017 0.009 0.22"/>
      </geometry>
    </collision>
    <inertial>
      <origin rpy="0 0 0" xyz="0 0 0.11"/>
      <mass value="0.05"/>
      <inertia ixx=".00032459" ixy=".0" ixz=".0" iyy=".00032637" iyz=".0" izz=".000002178"/>
    </inertial>
  </link>
  <gazebo reference="lower_leg_back_leftL_link">
    <material>Gazebo/Grey</material>
    <collision>
      <surface>
        <bounce>
          <restitution_coefficient>0</restitution_coefficient>
          <threshold>1e+06</threshold>
        </bounce>
        <friction>
          <torsional>
            <coefficient>0.05</coefficient>
          </torsional>
          <bullet>
            <rolling_friction>0.05</rolling_friction>
          </bullet>
        </friction>
        <contact>
          <ode>
            <kp>3000.0</kp>
            <kd>100.0</kd>
          </ode>
          <bullet>
            <kp>3000.0</kp>
            <kd>100.0</kd>
          </bullet>
        </contact>
      </surface>
    </collision>
  </gazebo>
  <!-- JOINT: lower_leg_${location}_link to upper_leg_${location}_link -->
  <joint name="10" type="continuous">
    <axis xyz="0 -1 0"/>
    <parent link="upper_leg_back_leftL_link"/>
    <child link="lower_leg_back_leftL_link"/>
    <origin rpy="0 4.189 0" xyz="0 -0.0085 0.05"/>
    <limit effort="100" velocity="100"/>
    <joint_properties damping="0.0" friction="0.0"/>
  </joint>
  <!-- Toe -->
  <!-- LINK: toe${toeSuffix} -->
  <link name="toe2">
    <visual>
      <origin rpy="0 0 0" xyz="0 0 0"/>
      <geometry>
        <sphere radius="0.015"/>
      </geometry>
    </visual>
    <collision>
      <origin rpy="0 0 0" xyz="0 0 0"/>
      <geometry>
        <sphere radius="0.015"/>
      </geometry>
    </collision>
    <inertial>
      <mass value="0.01"/>
      <inertia ixx="0.000025" ixy="0" ixz="0" iyy="0.000025" iyz="0" izz="0.000025"/>
    </inertial>
  </link>
  <gazebo reference="toe2">
    <material>Gazebo/Black</material>
    <collision>
      <surface>
        <bounce>
          <restitution_coefficient>0</restitution_coefficient>
          <threshold>1e+06</threshold>
        </bounce>
        <friction>
          <torsional>
            <coefficient>1.0</coefficient>
          </torsional>
          <ode>
            <mu>1.0</mu>
            <mu2>1.0</mu2>
          </ode>
          <bullet>
            <rolling_friction>1.0</rolling_friction>
            <friction2>1.0</friction2>
          </bullet>
        </friction>
        <contact>
          <ode>
            <kp>300000.0</kp>
            <kd>1000.0</kd>
          </ode>
          <bullet>
            <kp>300000.0</kp>
            <kd>1000.0</kd>
          </bullet>
        </contact>
      </surface>
    </collision>
  </gazebo>
  <!-- JOINT: toe${toeSuffix} to lower_leg_${location}_link -->
  <joint name="toe2" type="fixed">
    <parent link="lower_leg_back_leftL_link"/>
    <child link="toe2"/>
    <origin xyz="0 0 0.22"/>
    <dynamics damping="0.0" friction="0.0"/>
  </joint>
  <!-- LINK: lower_leg_${location}_link -->
  <link name="lower_leg_back_leftR_link">
    <visual>
      <origin rpy="0 0 0" xyz="0 0 0.1"/>
      <geometry>
        <box size="0.017 0.009 0.2"/>
      </geometry>
    </visual>
    <collision>
      <origin rpy="0 0 0" xyz="0 0 0.1"/>
      <geometry>
        <box size="0.017 0.009 0.2"/>
      </geometry>
    </collision>
    <inertial>
      <origin rpy="0 0 0" xyz="0 0 0.1"/>
      <mass value="0.05"/>
      <inertia ixx=".00032459" ixy=".0" ixz=".0" iyy=".00032637" iyz=".0" izz=".000002178"/>
    </inertial>
  </link>
  <gazebo reference="lower_leg_back_leftR_link">
    <material>Gazebo/Grey</material>
    <collision>
      <surface>
        <bounce>
          <restitution_coefficient>0</restitution_coefficient>
          <threshold>1e+06</threshold>
        </bounce>
        <friction>
          <torsional>
            <coefficient>0.05</coefficient>
          </torsional>
          <bullet>
            <rolling_friction>0.05</rolling_friction>
          </bullet>
        </friction>
        <contact>
          <ode>
            <kp>3000.0</kp>
            <kd>100.0</kd>
          </ode>
          <bullet>
            <kp>3000.0</kp>
            <kd>100.0</kd>
          </bullet>
        </contact>
      </surface>
    </collision>
  </gazebo>
  <!-- JOINT: lower_leg_${location}_link to upper_leg_${location}_link -->
  <joint name="11" type="continuous">
    <axis xyz="0 1 0"/>
    <parent link="upper_leg_back_leftR_link"/>
    <child link="lower_leg_back_leftR_link"/>
    <origin rpy="0 -4.189 0" xyz="0 0.0085 0.05"/>
    <limit effort="100" velocity="100"/>
    <joint_properties damping="0.0" friction="0.0"/>
  </joint>
  <!-- LINK: lower_leg_${location}_link -->
  <link name="lower_leg_front_rightL_link">
    <visual>
      <origin rpy="0 0 0" xyz="0 0 0.1"/>
      <geometry>
        <box size="0.017 0.009 0.2"/>
      </geometry>
    </visual>
    <collision>
      <origin rpy="0 0 0" xyz="0 0 0.1"/>
      <geometry>
        <box size="0.017 0.009 0.2"/>
      </geometry>
    </collision>
    <inertial>
      <origin rpy="0 0 0" xyz="0 0 0.1"/>
      <mass value="0.05"/>
      <inertia ixx=".00032459" ixy=".0" ixz=".0" iyy=".00032637" iyz=".0" izz=".000002178"/>
    </inertial>
  </link>
  <gazebo reference="lower_leg_front_rightL_link">
    <material>Gazebo/Grey</material>
    <collision>
      <surface>
        <bounce>
          <restitution_coefficient>0</restitution_coefficient>
          <threshold>1e+06</threshold>
        </bounce>
        <friction>
          <torsional>
            <coefficient>0.05</coefficient>
          </torsional>
          <bullet>
            <rolling_friction>0.05</rolling_friction>
          </bullet>
        </friction>
        <contact>
          <ode>
            <kp>3000.0</kp>
            <kd>100.0</kd>
          </ode>
          <bullet>
            <kp>3000.0</kp>
            <kd>100.0</kd>
          </bullet>
        </contact>
      </surface>
    </collision>
  </gazebo>
  <!-- JOINT: lower_leg_${location}_link to upper_leg_${location}_link -->
  <joint name="12" type="continuous">
    <axis xyz="0 -1 0"/>
    <parent link="upper_leg_front_rightL_link"/>
    <child link="lower_leg_front_rightL_link"/>
    <origin rpy="0 -4.189 0" xyz="0 -0.0085 0.05"/>
    <limit effort="100" velocity="100"/>
    <joint_properties damping="0.0" friction="0.0"/>
  </joint>
  <!-- LINK: lower_leg_${location}_link -->
  <link name="lower_leg_front_rightR_link">
    <visual>
      <origin rpy="0 0 0" xyz="0 0 0.11"/>
      <geometry>
        <box size="0.017 0.009 0.22"/>
      </geometry>
    </visual>
    <collision>
      <origin rpy="0 0 0" xyz="0 0 0.11"/>
      <geometry>
        <box size="0.017 0.009 0.22"/>
      </geometry>
    </collision>
    <inertial>
      <origin rpy="0 0 0" xyz="0 0 0.11"/>
      <mass value="0.05"/>
      <inertia ixx=".00032459" ixy=".0" ixz=".0" iyy=".00032637" iyz=".0" izz=".000002178"/>
    </inertial>
  </link>
  <gazebo reference="lower_leg_front_rightR_link">
    <material>Gazebo/Grey</material>
    <collision>
      <surface>
        <bounce>
          <restitution_coefficient>0</restitution_coefficient>
          <threshold>1e+06</threshold>
        </bounce>
        <friction>
          <torsional>
            <coefficient>0.05</coefficient>
          </torsional>
          <bullet>
            <rolling_friction>0.05</rolling_friction>
          </bullet>
        </friction>
        <contact>
          <ode>
            <kp>3000.0</kp>
            <kd>100.0</kd>
          </ode>
          <bullet>
            <kp>3000.0</kp>
            <kd>100.0</kd>
          </bullet>
        </contact>
      </surface>
    </collision>
  </gazebo>
  <!-- JOINT: lower_leg_${location}_link to upper_leg_${location}_link -->
  <joint name="13" type="continuous">
    <axis xyz="0 1 0"/>
    <parent link="upper_leg_front_rightR_link"/>
    <child link="lower_leg_front_rightR_link"/>
    <origin rpy="0 4.189 0" xyz="0 0.0085 0.05"/>
    <limit effort="100" velocity="100"/>
    <joint_properties damping="0.0" friction="0.0"/>
  </joint>
  <!-- Toe -->
  <!-- LINK: toe${toeSuffix} -->
  <link name="toe5">
    <visual>
      <origin rpy="0 0 0" xyz="0 0 0"/>
      <geometry>
        <sphere radius="0.015"/>
      </geometry>
    </visual>
    <collision>
      <origin rpy="0 0 0" xyz="0 0 0"/>
      <geometry>
        <sphere radius="0.015"/>
      </geometry>
    </collision>
    <inertial>
      <mass value="0.01"/>
      <inertia ixx="0.000025" ixy="0" ixz="0" iyy="0.000025" iyz="0" izz="0.000025"/>
    </inertial>
  </link>
  <gazebo reference="toe5">
    <material>Gazebo/Black</material>
    <collision>
      <surface>
        <bounce>
          <restitution_coefficient>0</restitution_coefficient>
          <threshold>1e+06</threshold>
        </bounce>
        <friction>
          <torsional>
            <coefficient>1.0</coefficient>
          </torsional>
          <ode>
            <mu>1.0</mu>
            <mu2>1.0</mu2>
          </ode>
          <bullet>
            <rolling_friction>1.0</rolling_friction>
            <friction2>1.0</friction2>
          </bullet>
        </friction>
        <contact>
          <ode>
            <kp>300000.0</kp>
            <kd>1000.0</kd>
          </ode>
          <bullet>
            <kp>300000.0</kp>
            <kd>1000.0</kd>
          </bullet>
        </contact>
      </surface>
    </collision>
  </gazebo>
  <!-- JOINT: toe${toeSuffix} to lower_leg_${location}_link -->
  <joint name="toe5" type="fixed">
    <parent link="lower_leg_front_rightR_link"/>
    <child link="toe5"/>
    <origin xyz="0 0 0.22"/>
    <dynamics damping="0.0" friction="0.0"/>
  </joint>
  <!-- LINK: lower_leg_${location}_link -->
  <link name="lower_leg_back_rightL_link">
    <visual>
      <origin rpy="0 0 0" xyz="0 0 0.1"/>
      <geometry>
        <box size="0.017 0.009 0.2"/>
      </geometry>
    </visual>
    <collision>
      <origin rpy="0 0 0" xyz="0 0 0.1"/>
      <geometry>
        <box size="0.017 0.009 0.2"/>
      </geometry>
    </collision>
    <inertial>
      <origin rpy="0 0 0" xyz="0 0 0.1"/>
      <mass value="0.05"/>
      <inertia ixx=".00032459" ixy=".0" ixz=".0" iyy=".00032637" iyz=".0" izz=".000002178"/>
    </inertial>
  </link>
  <gazebo reference="lower_leg_back_rightL_link">
    <material>Gazebo/Grey</material>
    <collision>
      <surface>
        <bounce>
          <restitution_coefficient>0</restitution_coefficient>
          <threshold>1e+06</threshold>
        </bounce>
        <friction>
          <torsional>
            <coefficient>0.05</coefficient>
          </torsional>
          <bullet>
            <rolling_friction>0.05</rolling_friction>
          </bullet>
        </friction>
        <contact>
          <ode>
            <kp>3000.0</kp>
            <kd>100.0</kd>
          </ode>
          <bullet>
            <kp>3000.0</kp>
            <kd>100.0</kd>
          </bullet>
        </contact>
      </surface>
    </collision>
  </gazebo>
  <!-- JOINT: lower_leg_${location}_link to upper_leg_${location}_link -->
  <joint name="14" type="continuous">
    <axis xyz="0 -1 0"/>
    <parent link="upper_leg_back_rightL_link"/>
    <child link="lower_leg_back_rightL_link"/>
    <origin rpy="0 -4.189 0" xyz="0 -0.0085 0.05"/>
    <limit effort="100" velocity="100"/>
    <joint_properties damping="0.0" friction="0.0"/>
  </joint>
  <!-- LINK: lower_leg_${location}_link -->
  <link name="lower_leg_back_rightR_link">
    <visual>
      <origin rpy="0 0 0" xyz="0 0 0.11"/>
      <geometry>
        <box size="0.017 0.009 0.22"/>
      </geometry>
    </visual>
    <collision>
      <origin rpy="0 0 0" xyz="0 0 0.11"/>
      <geometry>
        <box size="0.017 0.009 0.22"/>
      </geometry>
    </collision>
    <inertial>
      <origin rpy="0 0 0" xyz="0 0 0.11"/>
      <mass value="0.05"/>
      <inertia ixx=".00032459" ixy=".0" ixz=".0" iyy=".00032637" iyz=".0" izz=".000002178"/>
    </inertial>
  </link>
  <gazebo reference="lower_leg_back_rightR_link">
    <material>Gazebo/Grey</material>
    <collision>
      <surface>
        <bounce>
          <restitution_coefficient>0</restitution_coefficient>
          <threshold>1e+06</threshold>
        </bounce>
        <friction>
          <torsional>
            <coefficient>0.05</coefficient>
          </torsional>
          <bullet>
            <rolling_friction>0.05</rolling_friction>
          </bullet>
        </friction>
        <contact>
          <ode>
            <kp>3000.0</kp>
            <kd>100.0</kd>
          </ode>
          <bullet>
            <kp>3000.0</kp>
            <kd>100.0</kd>
          </bullet>
        </contact>
      </surface>
    </collision>
  </gazebo>
  <!-- JOINT: lower_leg_${location}_link to upper_leg_${location}_link -->
  <joint name="15" type="continuous">
    <axis xyz="0 1 0"/>
    <parent link="upper_leg_back_rightR_link"/>
    <child link="lower_leg_back_rightR_link"/>
    <origin rpy="0 4.189 0" xyz="0 0.0085 0.05"/>
    <limit effort="100" velocity="100"/>
    <joint_properties damping="0.0" friction="0.0"/>
  </joint>
  <!-- Toe -->
  <!-- LINK: toe${toeSuffix} -->
  <link name="toe7">
    <visual>
      <origin rpy="0 0 0" xyz="0 0 0"/>
      <geometry>
        <sphere radius="0.015"/>
      </geometry>
    </visual>
    <collision>
      <origin rpy="0 0 0" xyz="0 0 0"/>
      <geometry>
        <sphere radius="0.015"/>
      </geometry>
    </collision>
    <inertial>
      <mass value="0.01"/>
      <inertia ixx="0.000025" ixy="0" ixz="0" iyy="0.000025" iyz="0" izz="0.000025"/>
    </inertial>
  </link>
  <gazebo reference="toe7">
    <material>Gazebo/Black</material>
    <collision>
      <surface>
        <bounce>
          <restitution_coefficient>0</restitution_coefficient>
          <threshold>1e+06</threshold>
        </bounce>
        <friction>
          <torsional>
            <coefficient>1.0</coefficient>
          </torsional>
          <ode>
            <mu>1.0</mu>
            <mu2>1.0</mu2>
          </ode>
          <bullet>
            <rolling_friction>1.0</rolling_friction>
            <friction2>1.0</friction2>
          </bullet>
        </friction>
        <contact>
          <ode>
            <kp>300000.0</kp>
            <kd>1000.0</kd>
          </ode>
          <bullet>
            <kp>300000.0</kp>
            <kd>1000.0</kd>
          </bullet>
        </contact>
      </surface>
    </collision>
  </gazebo>
  <!-- JOINT: toe${toeSuffix} to lower_leg_${location}_link -->
  <joint name="toe7" type="fixed">
    <parent link="lower_leg_back_rightR_link"/>
    <child link="toe7"/>
    <origin xyz="0 0 0.22"/>
    <dynamics damping="0.0" friction="0.0"/>
  </joint>
  <!-- Add ros_control plugin -->
  <gazebo>
    <plugin filename="libgazebo_ros_control.so" name="gazebo_ros_control">
      <robotNamespace>/minitaur</robotNamespace>
    </plugin>
  </gazebo>
</robot>
